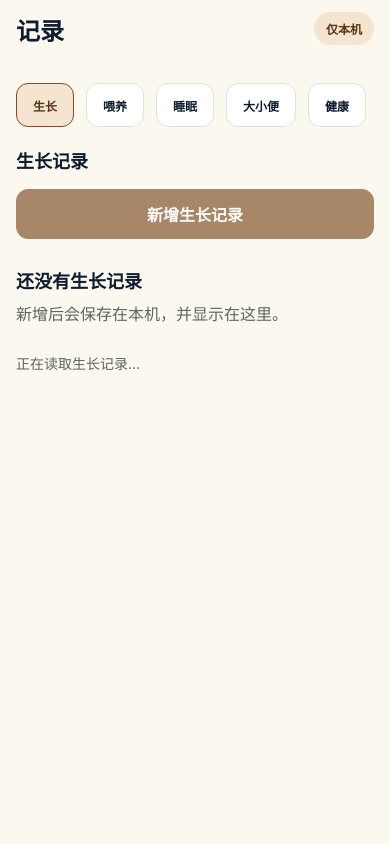
Scenario: creates and opens exact health editors
The image size is (390, 844).
Expected: the heading "还没有生长记录" is shown, [16,271,142,292]
Click the tab "健康": [337, 105] box [308,83,366,127]
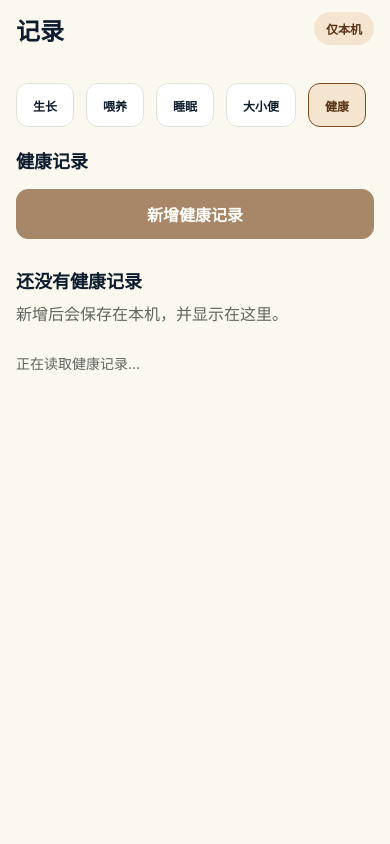
Expected: the heading "还没有健康记录" is shown, [16,271,142,292]
Click the button "新增健康记录": [195, 214] box [16,189,374,239]
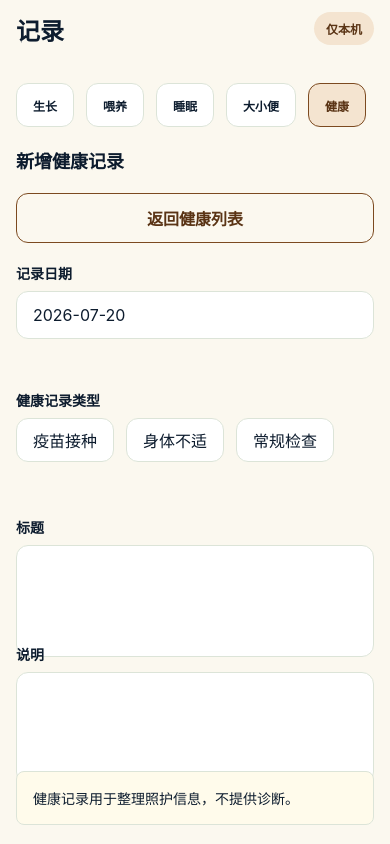
Expected: the heading "新增健康记录" is shown, [16,151,124,172]
Expected: the text box named "标题" is shown, [16,545,374,657]
